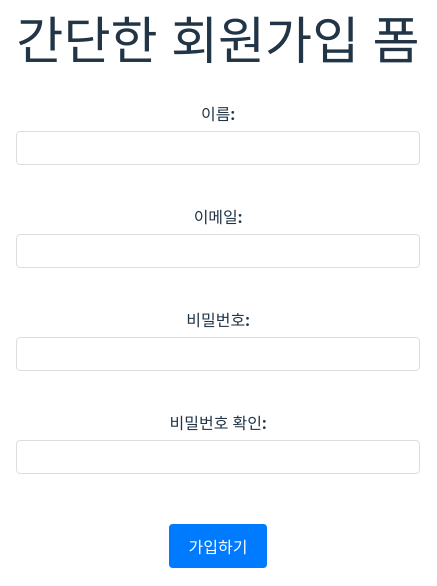
RegistrationForm › 이름 밸리데이션 › 빈 이름에 대해 에러 메시지를 표시한다
In the field labelled "이름:": (218, 148) [16, 131, 420, 165], type "a"
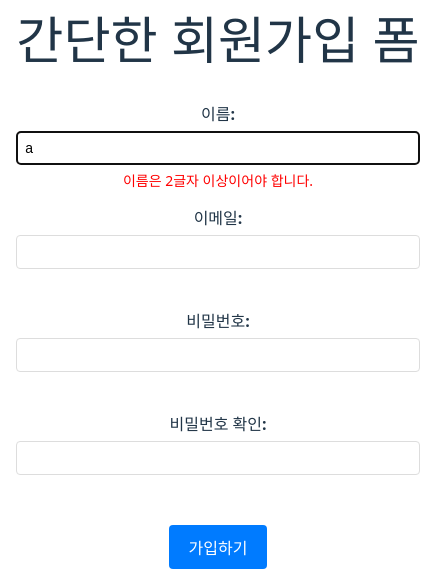
Clear the field labelled "이름:": (218, 148) [16, 131, 420, 165]
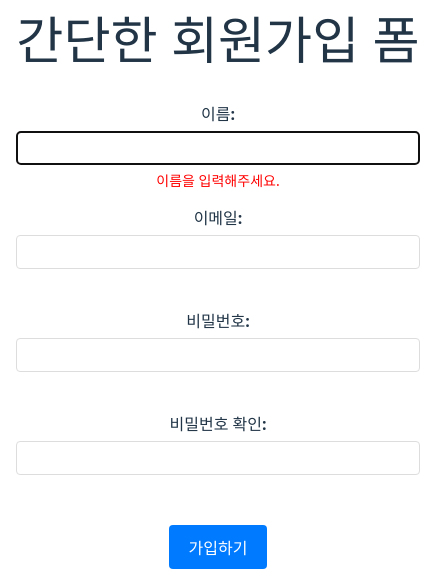
Now the text with test id "name-error" reads "이름을 입력해주세요.", box [156, 171, 280, 190]
